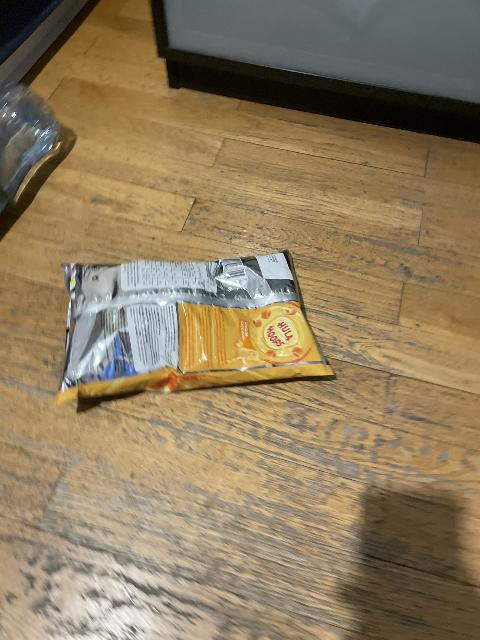Chio Hula Hoops Cheese 70g: (55, 250, 336, 407)
